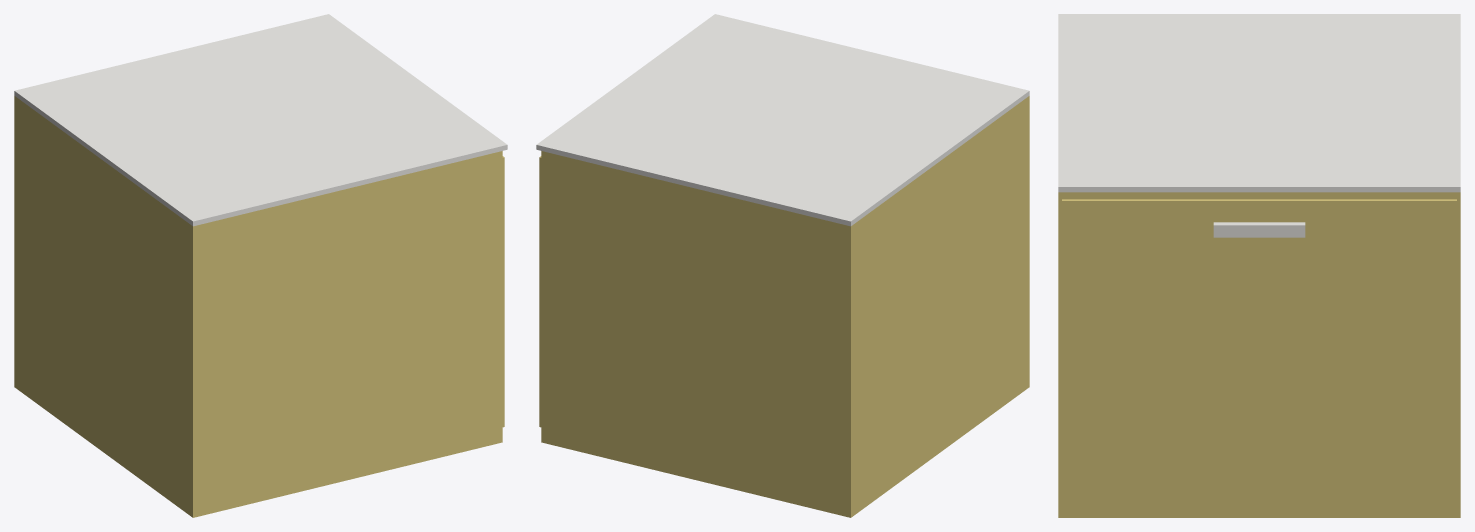
The model's file is KitchenTable4.fbx.
3 renders of one model, left to right at view 1: azimuth 30°, elevation 25°; view 2: azimuth 150°, elevation 25°; view 3: azimuth 270°, elevation 25°, orthographic. The views are drawn at different scales.
Parts seen in each view (by area): view 1: polySurface244; view 2: polySurface244; view 3: polySurface244.
Part boxes in pixels (x1,y1,x2,y2): polySurface244: (14, 14, 507, 517); polySurface244: (536, 14, 1029, 517); polySurface244: (1058, 14, 1460, 517).
Size of the model in its own units: 103 by 91.51 by 100.
